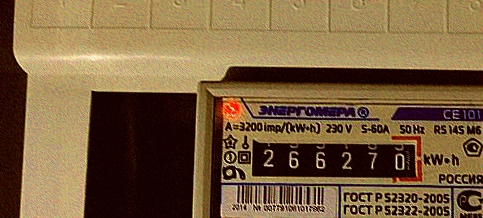0: (393, 149, 406, 171)
2: (261, 146, 276, 167), (340, 148, 353, 169)
6: (287, 148, 301, 168), (313, 149, 326, 168)
7: (365, 149, 379, 170)
screen: (242, 127, 430, 188)
